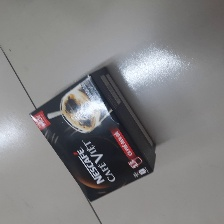CF Viet: (28, 67, 156, 204)
